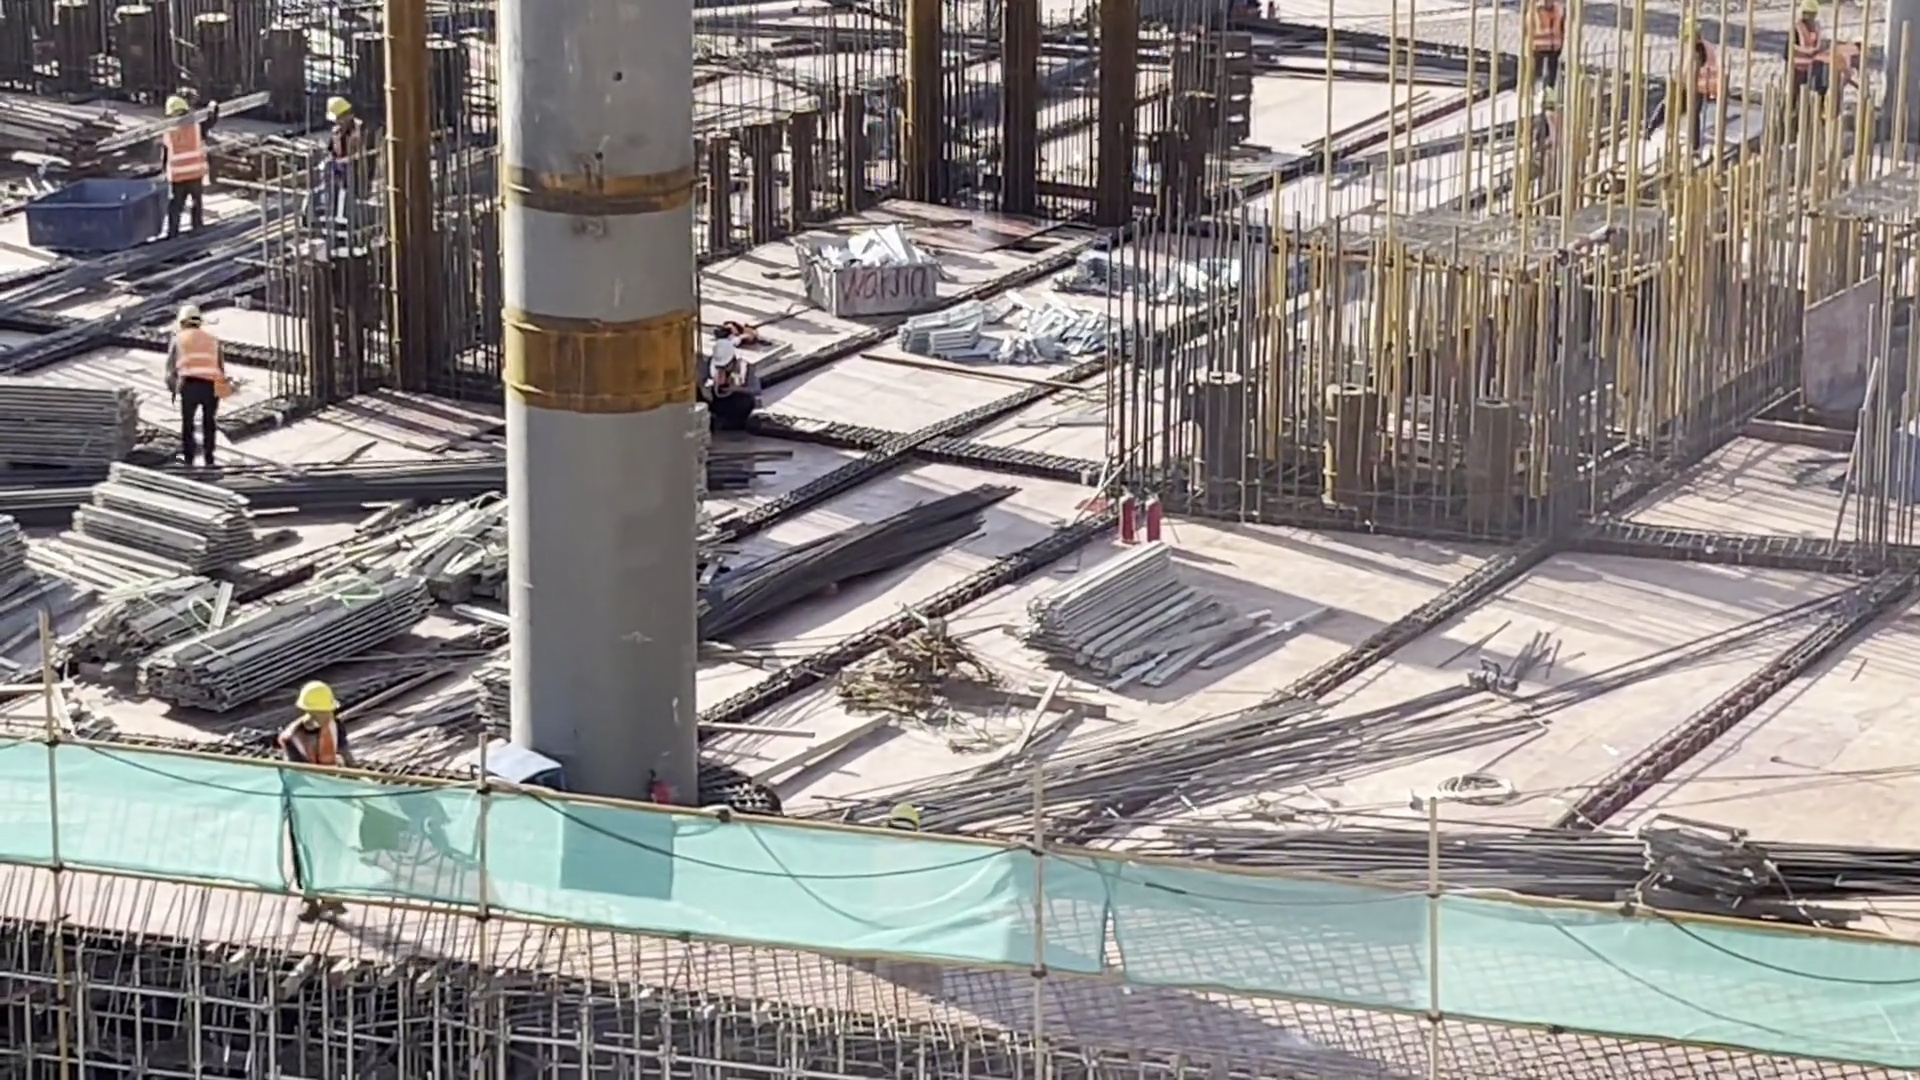helmet: (169, 293, 204, 330), (293, 686, 337, 715), (701, 335, 740, 365), (169, 97, 193, 113)
hopper: (796, 222, 947, 316), (8, 171, 167, 243)
person: (145, 295, 233, 468), (264, 660, 367, 791), (300, 95, 380, 235), (688, 324, 766, 438), (149, 79, 210, 219), (1669, 4, 1738, 123), (1511, 2, 1570, 97), (1788, 2, 1829, 82)
vest: (282, 716, 332, 783), (171, 330, 222, 395), (156, 111, 195, 176), (1793, 28, 1822, 75)
wood: (147, 560, 434, 698), (1004, 538, 1241, 701), (67, 439, 252, 585), (4, 360, 163, 493)
